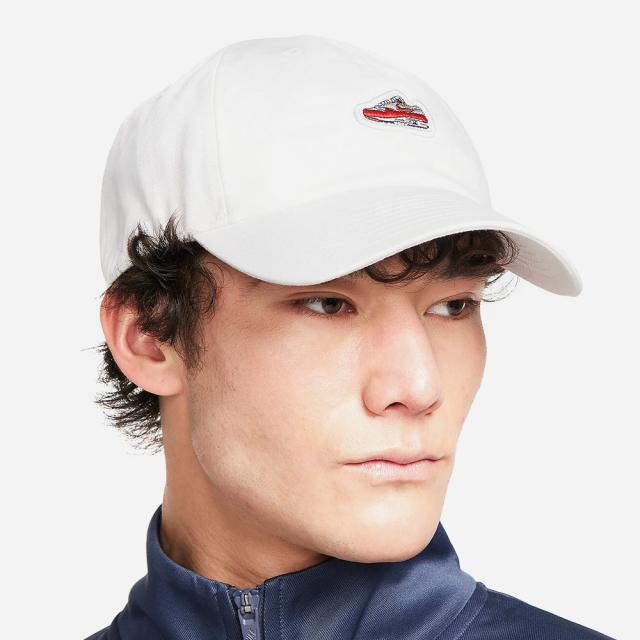Nonhelmet: (87, 32, 584, 566)
